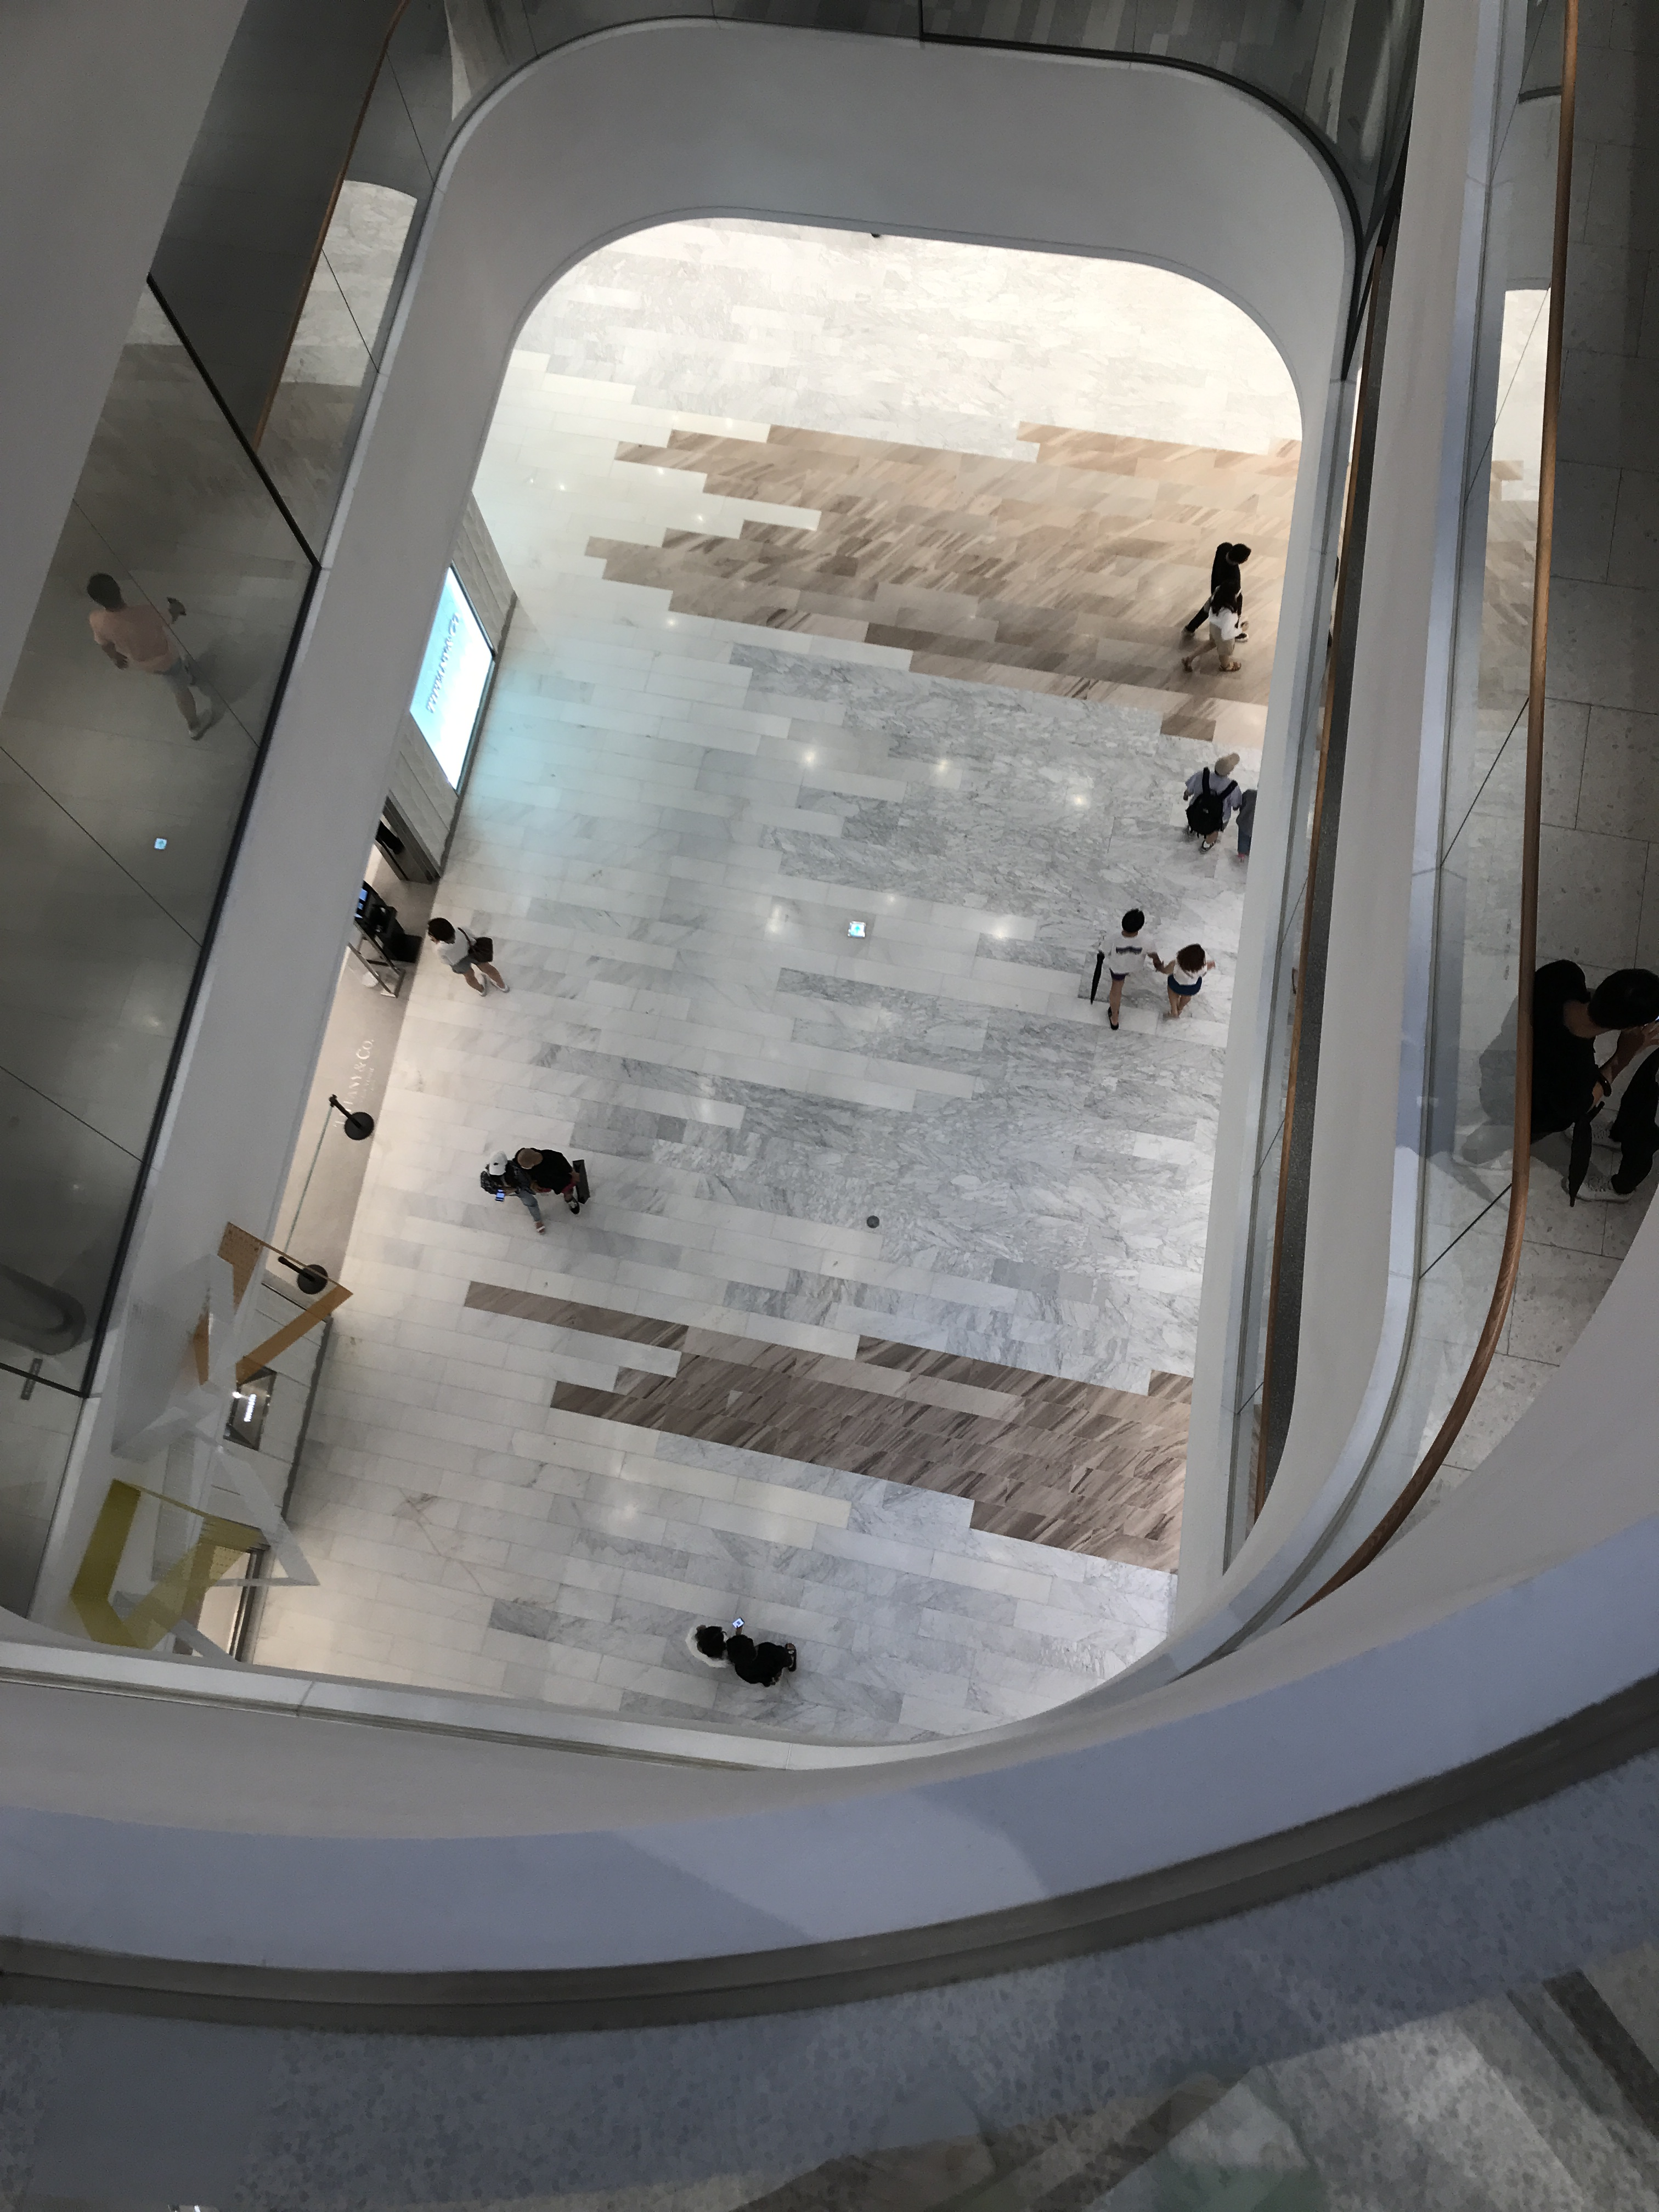person: (1451, 958, 1652, 1171), (86, 577, 223, 736), (1100, 908, 1161, 1028), (1178, 578, 1244, 676), (1186, 539, 1250, 635), (511, 1145, 592, 1220), (1182, 754, 1236, 856), (484, 1152, 546, 1237), (430, 921, 497, 995), (729, 1633, 803, 1691), (1162, 940, 1214, 1025), (687, 1623, 731, 1675)
